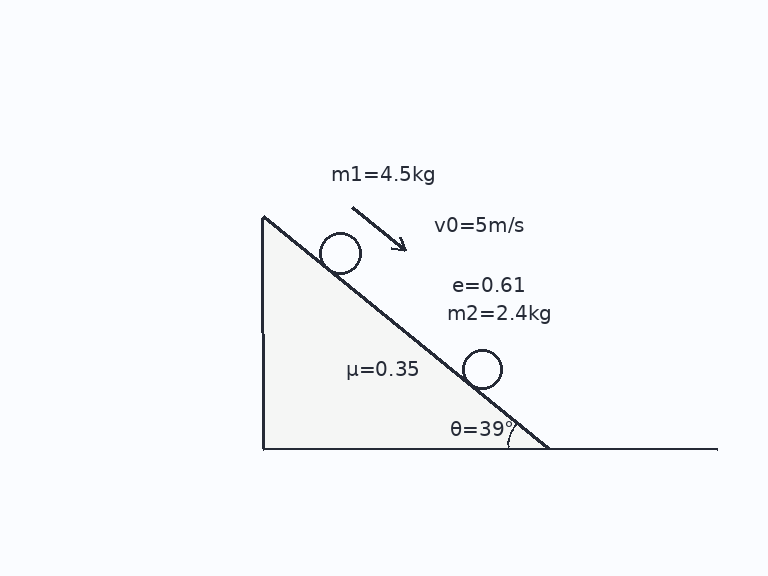ball: (317, 230, 363, 276), (460, 347, 504, 391)
ramp: (261, 215, 550, 450)
